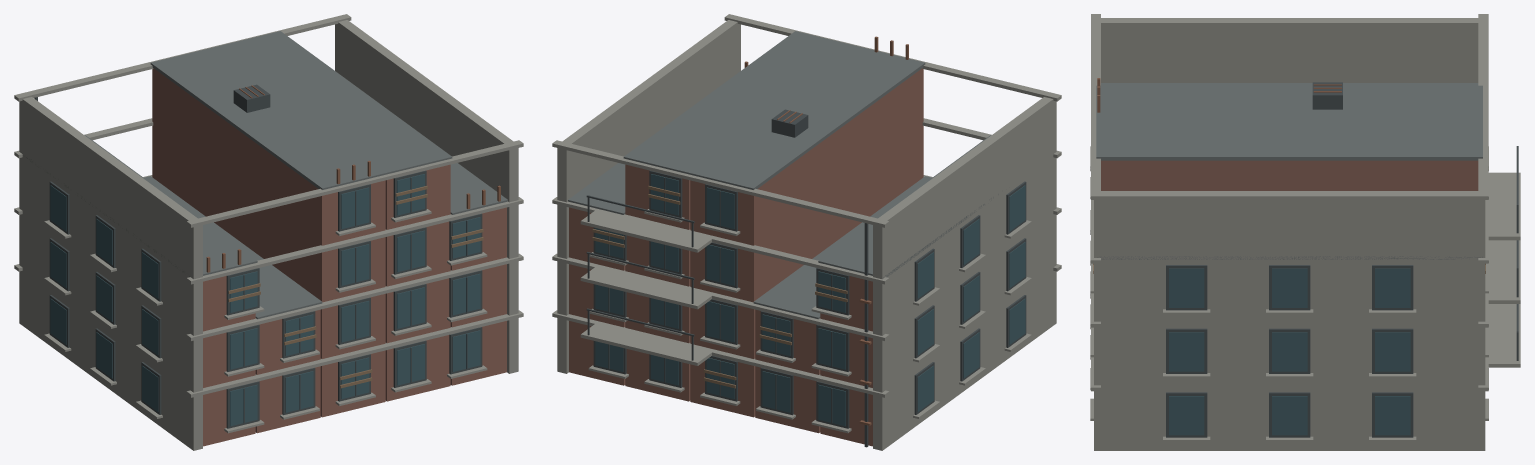
The model's file is Ville_Batiment_01.fbx.
3 renders of one model, left to right at view 1: azimuth 30°, elevation 25°; view 2: azimuth 150°, elevation 25°; view 3: azimuth 270°, elevation 25°, orthographic. The views are drawn at different scales.
Visible parts, largest first — view 1: Ville_Batiment_01_concrete, Ville_Batiment_01_brick, Ville_Batiment_01_concrete_dark, Ville_Batiment_01_glass, Ville_Batiment_01_iron, Ville_Batiment_01_wood, Ville_Batiment_01_rust; view 2: Ville_Batiment_01_concrete, Ville_Batiment_01_brick, Ville_Batiment_01_concrete_dark, Ville_Batiment_01_glass, Ville_Batiment_01_iron, Ville_Batiment_01_wood, Ville_Batiment_01_rust; view 3: Ville_Batiment_01_concrete, Ville_Batiment_01_concrete_dark, Ville_Batiment_01_glass, Ville_Batiment_01_brick, Ville_Batiment_01_iron.
Part boxes in pixels (<box>): Ville_Batiment_01_concrete: <box>14,14,523,450</box>; Ville_Batiment_01_brick: <box>152,68,506,446</box>; Ville_Batiment_01_concrete_dark: <box>21,31,507,319</box>; Ville_Batiment_01_glass: <box>50,174,480,426</box>; Ville_Batiment_01_iron: <box>34,84,482,428</box>; Ville_Batiment_01_wood: <box>228,186,483,388</box>; Ville_Batiment_01_rust: <box>206,85,500,272</box>; Ville_Batiment_01_concrete: <box>552,14,1061,450</box>; Ville_Batiment_01_brick: <box>569,68,923,446</box>; Ville_Batiment_01_concrete_dark: <box>568,31,998,319</box>; Ville_Batiment_01_glass: <box>595,174,1025,426</box>; Ville_Batiment_01_iron: <box>586,109,1026,447</box>; Ville_Batiment_01_wood: <box>592,186,847,388</box>; Ville_Batiment_01_rust: <box>744,36,908,425</box>; Ville_Batiment_01_concrete: <box>1090,14,1520,450</box>; Ville_Batiment_01_concrete_dark: <box>1096,83,1482,259</box>; Ville_Batiment_01_glass: <box>1169,268,1410,435</box>; Ville_Batiment_01_brick: <box>1101,160,1478,190</box>; Ville_Batiment_01_iron: <box>1166,82,1518,437</box>.
Bounding box in the file's own units: 43.56 × 30.2 × 42.85.
